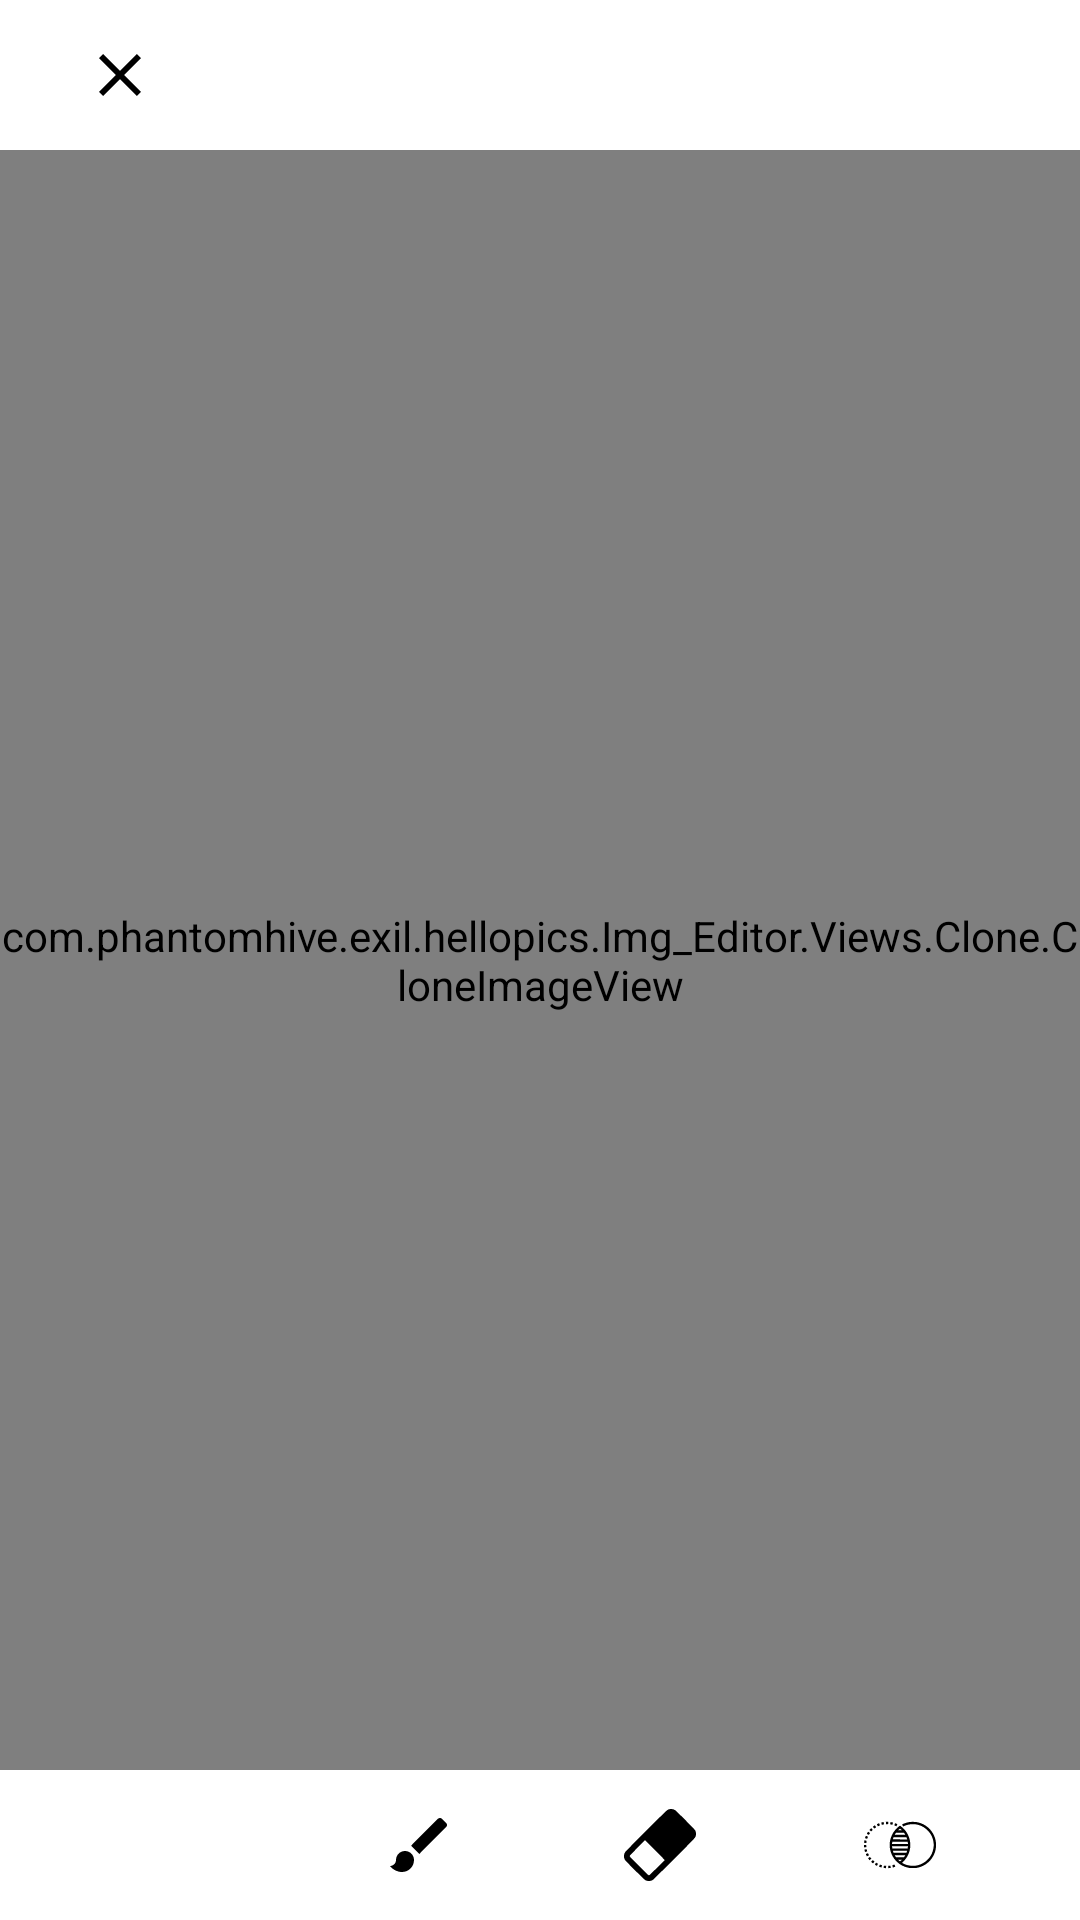

Icon click points for this 1080 x 1920 phone screenshot, format point (x, y):
brush: point (418, 1845)
close: point (120, 75)
eraser: point (660, 1845)
merge: point (900, 1845)
